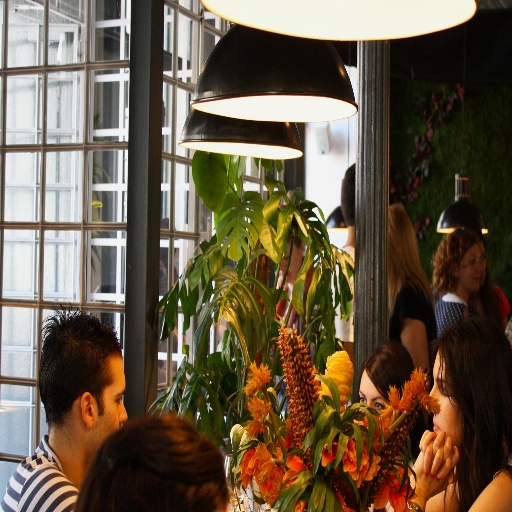hand: (410, 427, 459, 498)
